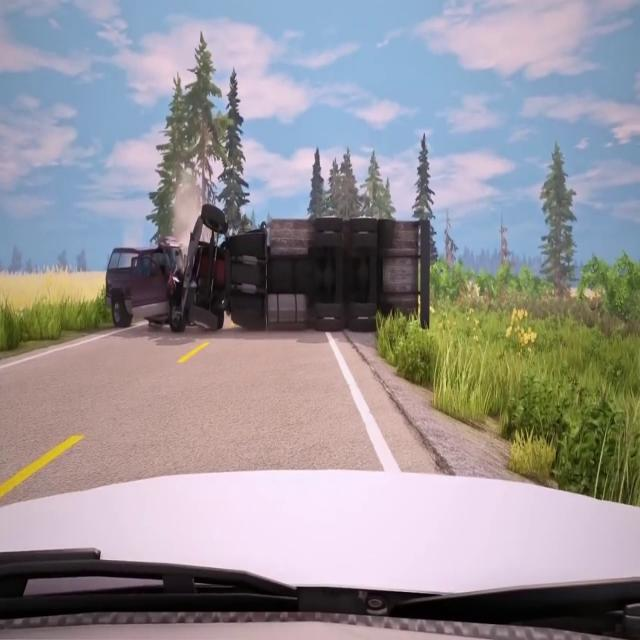accident: (100, 202, 434, 345)
